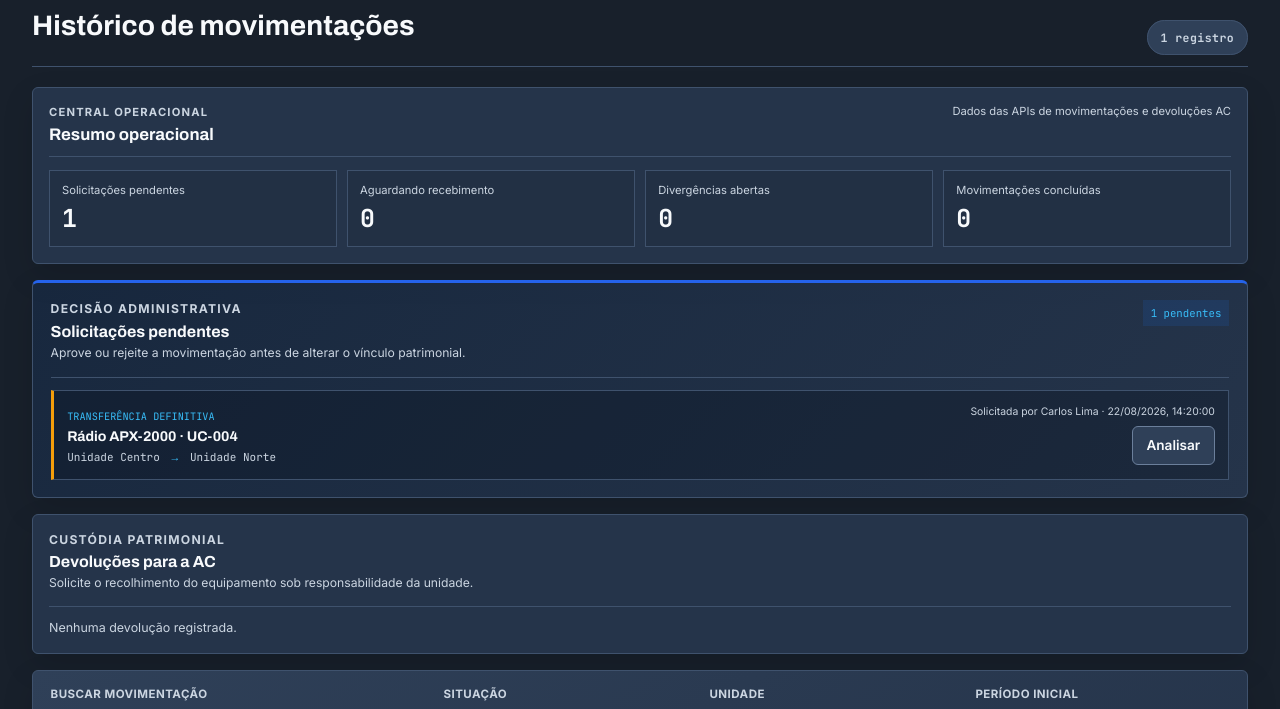
Test: requires a justification before DITEL rejects a pending movement
Click the button with aria-label "analisar solicitação mov-pend-01" at (1173, 445), box [1132,426,1215,465]
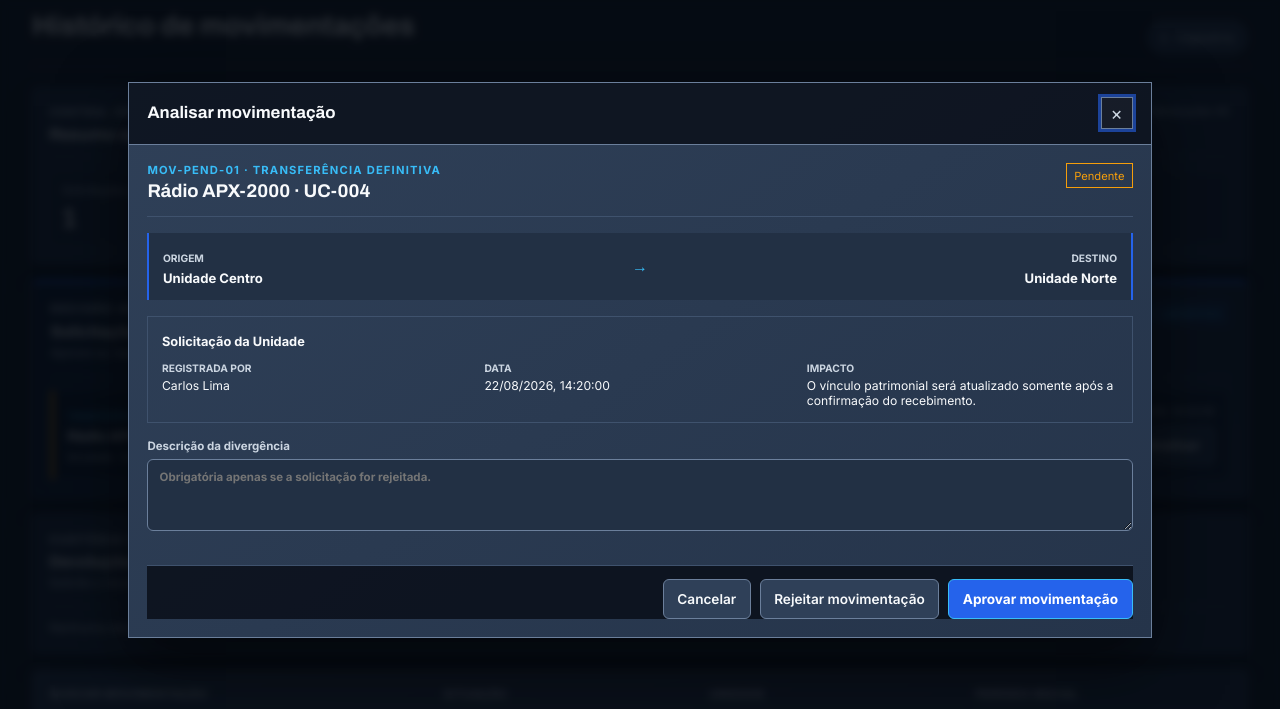
Expected: the heading "Solicitações pendentes" is shown, [51,323,230,340]
Click the button "Rejeitar movimentação" at (850, 599), box [760,579,939,619]
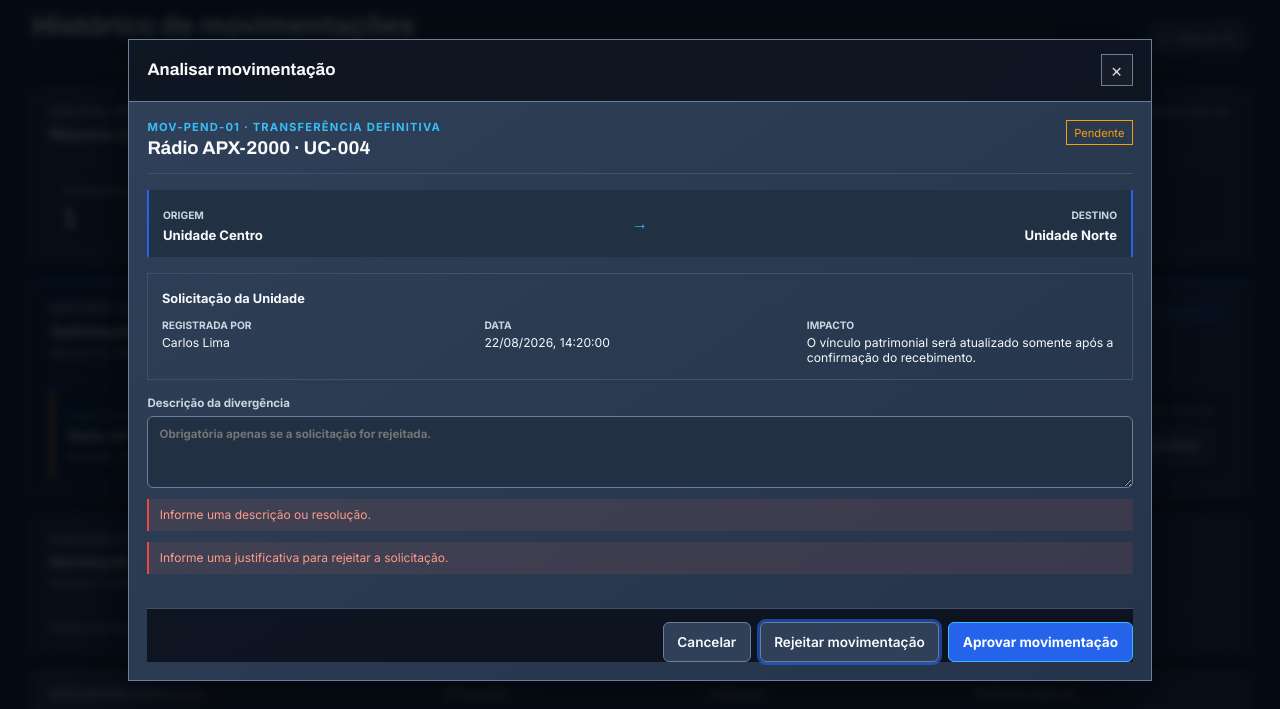
Now the text "Informe uma justificativa para rejeitar a solicitação." is shown, box [147,542,1133,574]
Type "Documento patrimonial pendente." into the text box named "Justificativa da rejeição" at (640, 452), box [147,416,1133,488]
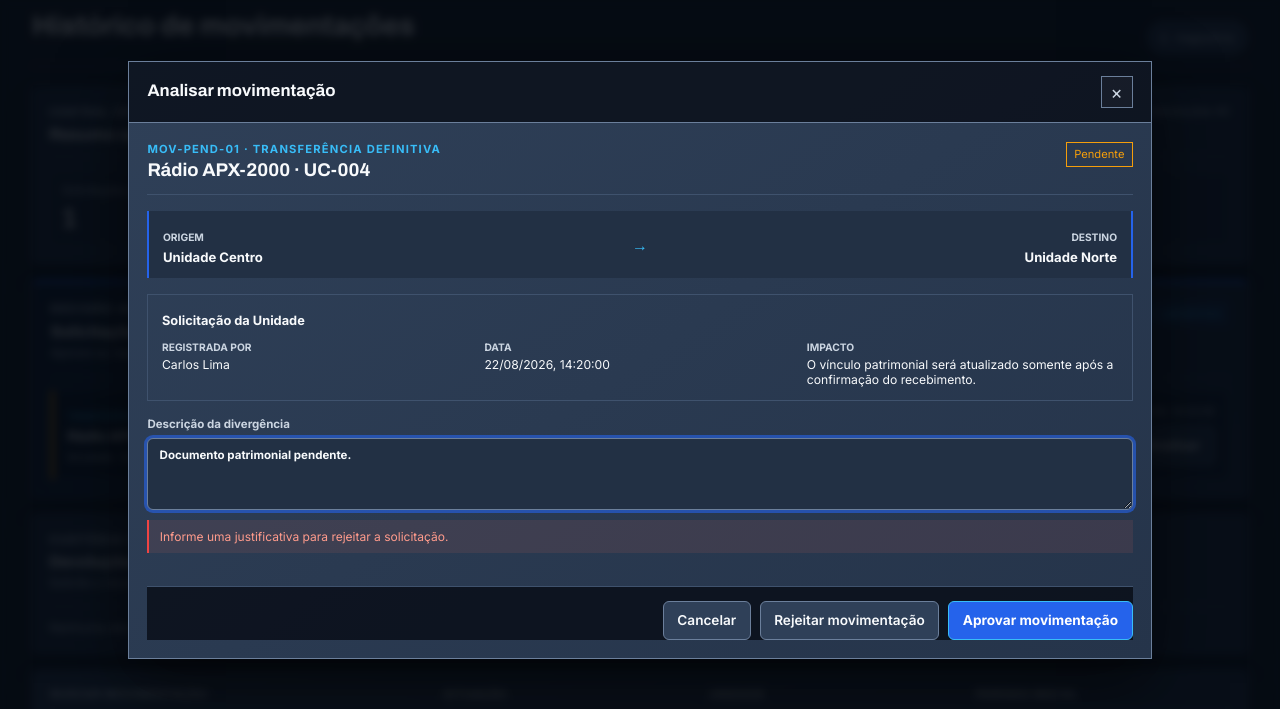
Click the button "Rejeitar movimentação" at (850, 620), box [760,601,939,640]
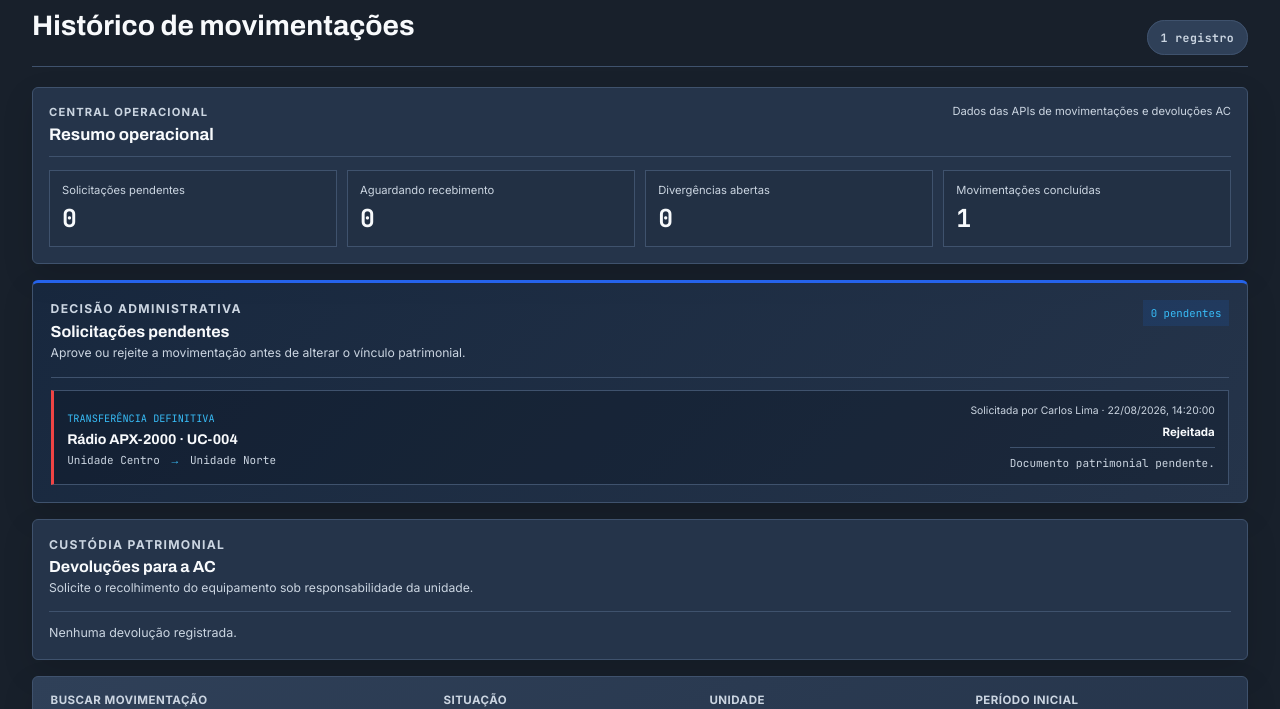
Now the text "Rejeitada" is shown, box [1162,424,1215,438]
